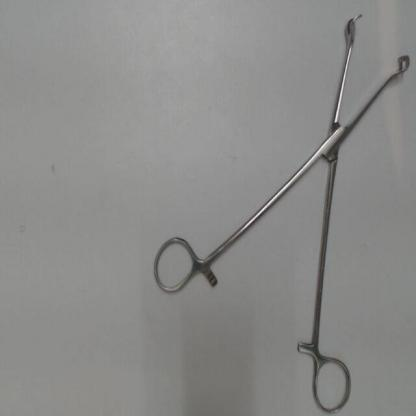8 Babcock Tissue Forceps: (148, 3, 414, 414)
